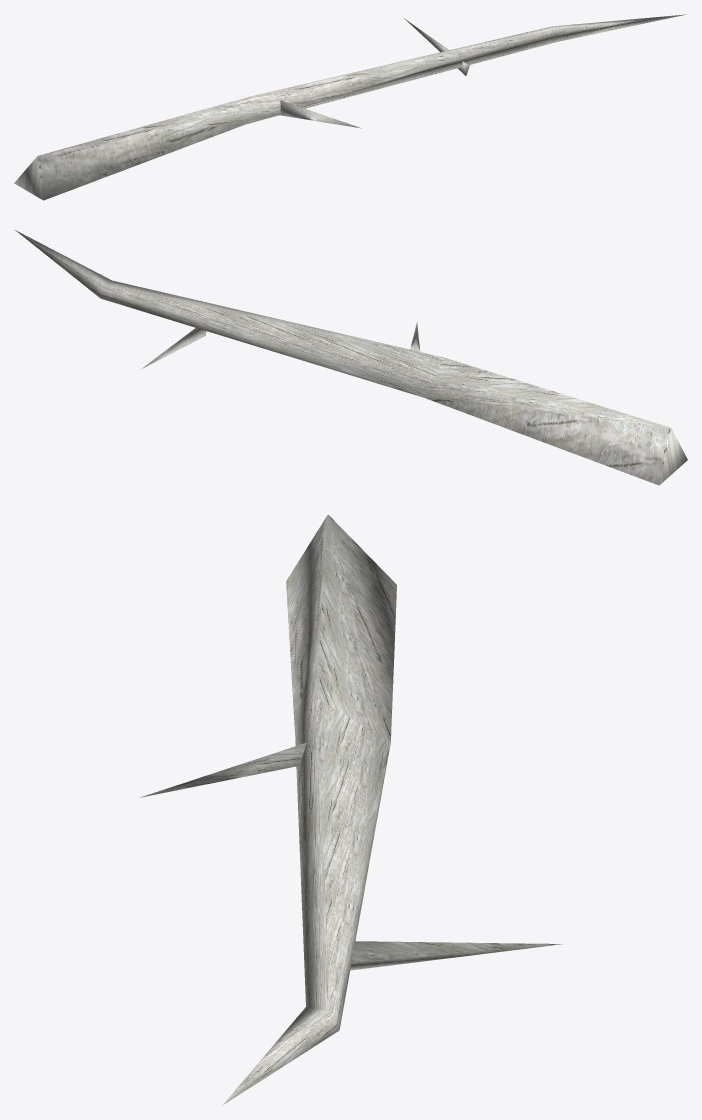
The model's file is shor_driftwood_l2.fbx.
The picture shows the model from 3 angles, top to bottom: view 1: azimuth 30°, elevation 25°; view 2: azimuth 150°, elevation 25°; view 3: azimuth 270°, elevation 25°; orthographic projection. The views are drawn at different scales.
Visible parts, largest first — view 1: mesh_node; view 2: mesh_node; view 3: mesh_node.
Part boxes in pixels (x1,y1,x2,y2): mesh_node: (14,14,686,200); mesh_node: (15,230,687,485); mesh_node: (139,514,562,1105).
Bounding box in the file's own units: 5.87 × 0.4355 × 1.72.
